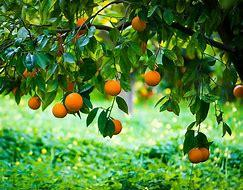orange: (98, 76, 122, 97), (66, 95, 84, 111), (146, 68, 162, 85), (53, 103, 68, 117)
